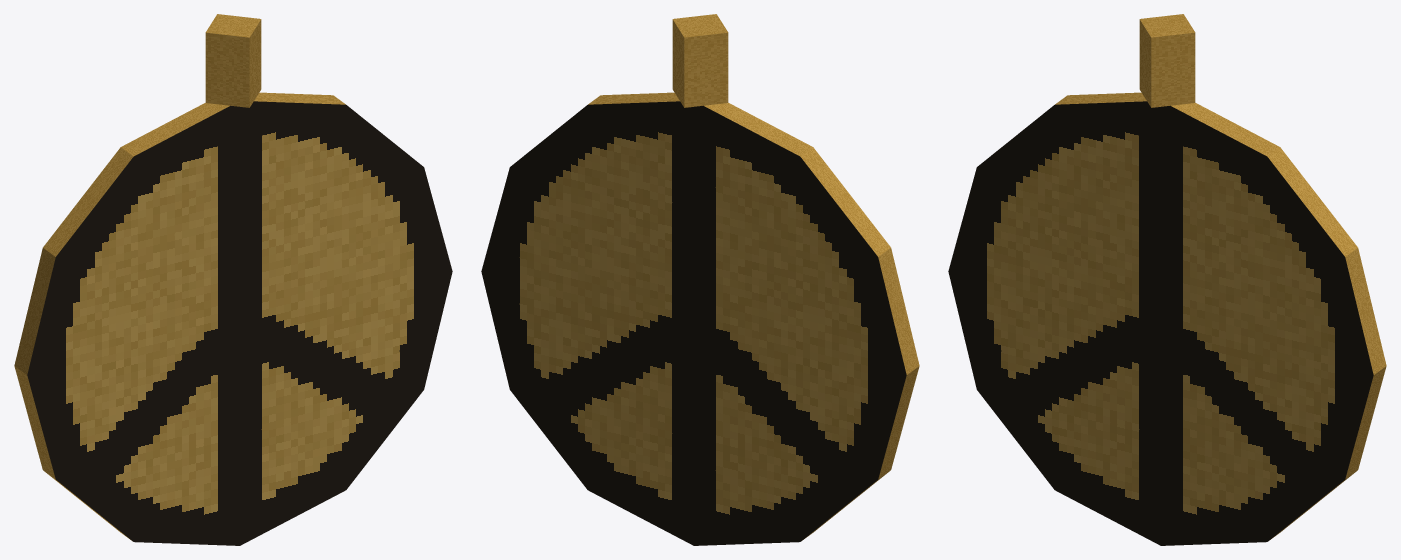
The model's file is charm_peace_medallion.glb.
3 renders of one model, left to right at view 1: azimuth 30°, elevation 25°; view 2: azimuth 150°, elevation 25°; view 3: azimuth 330°, elevation 25°, orthographic.
Visible parts, largest first — view 1: charm_peace_medallion; view 2: charm_peace_medallion; view 3: charm_peace_medallion.
Boxes of the visible parts, x1,y1,x2,y2 form: charm_peace_medallion: (14, 14, 452, 545); charm_peace_medallion: (481, 14, 919, 545); charm_peace_medallion: (948, 14, 1386, 545).
Size of the model in its own units: 0.038 by 0.044 by 0.005.
1 material, 1 textured.
